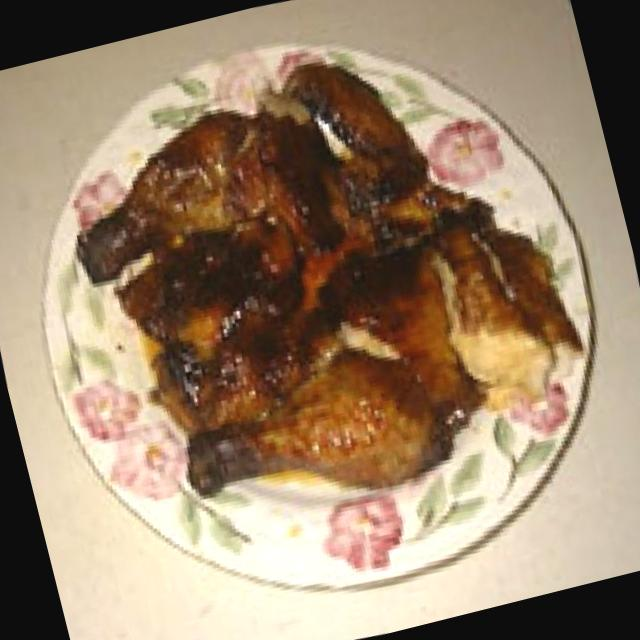Chicken: (25, 0, 613, 576)
